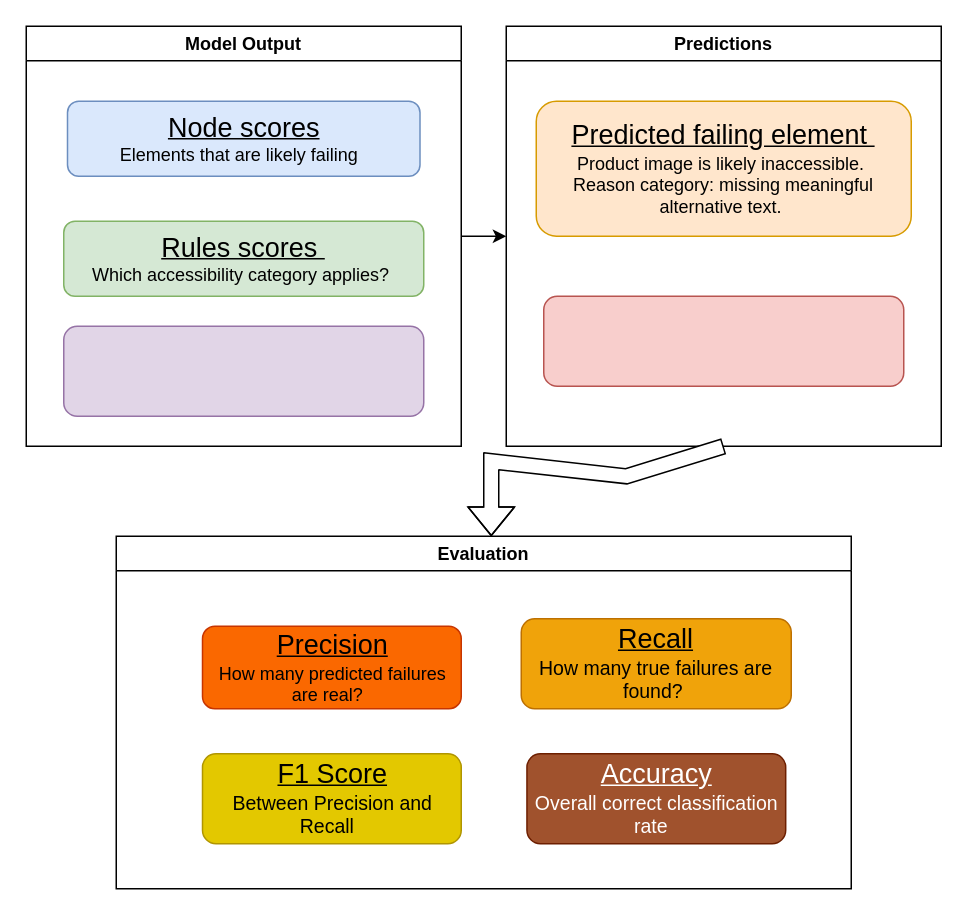
Some shapes in this 968 by 915 pixel diagram are drawn without their labels. The shapes that lost their labels are listed below. From the top down, each one's centre as x and y in pixels, then its label:
(723,340): Predicted Page Status Page likely contains accessible failures.
(243,370): Page score Does the page contain a violation?
